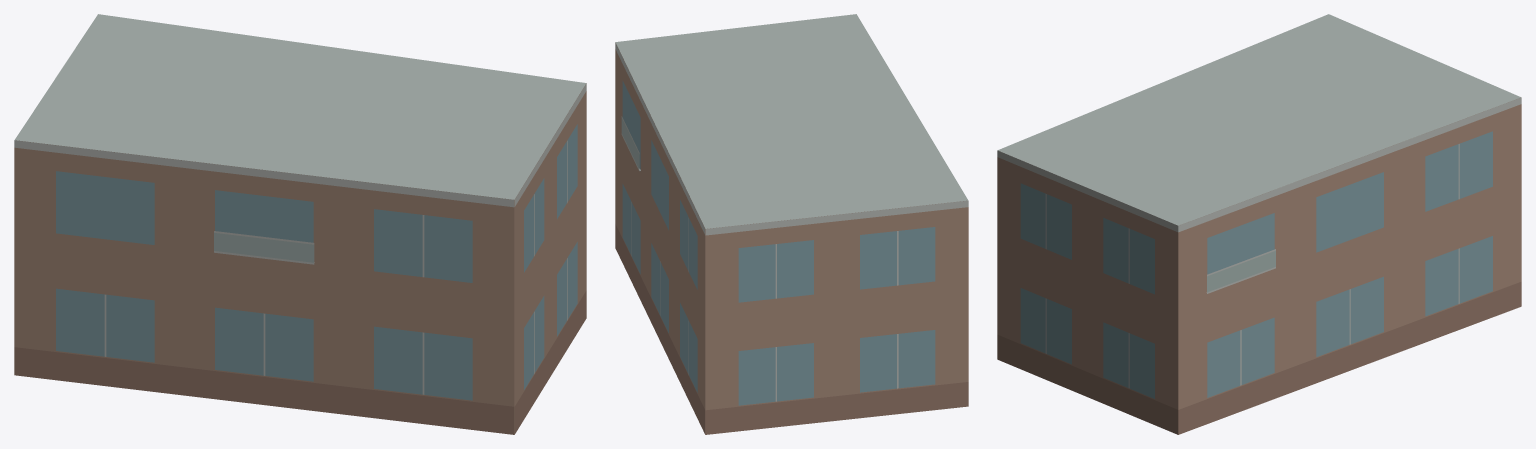
Rendered from survey-upis-32729009.glb.
The picture shows the model from 3 angles, left to right: view 1: azimuth 30°, elevation 25°; view 2: azimuth 150°, elevation 25°; view 3: azimuth 270°, elevation 25°; orthographic projection. The views are drawn at different scales.
Visible parts, largest first — view 1: survey-upis-32729009.tmp; view 2: survey-upis-32729009.tmp; view 3: survey-upis-32729009.tmp.
Boxes of the visible parts, box(x1,y1,x2,y2) form: survey-upis-32729009.tmp: box(14, 14, 586, 434); survey-upis-32729009.tmp: box(615, 14, 968, 434); survey-upis-32729009.tmp: box(997, 14, 1521, 434).
Size of the model in its own units: 16.5 by 7.6 by 17.26.
